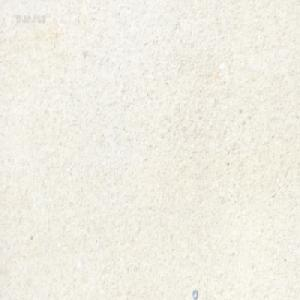Washer: (192, 288, 198, 299)
